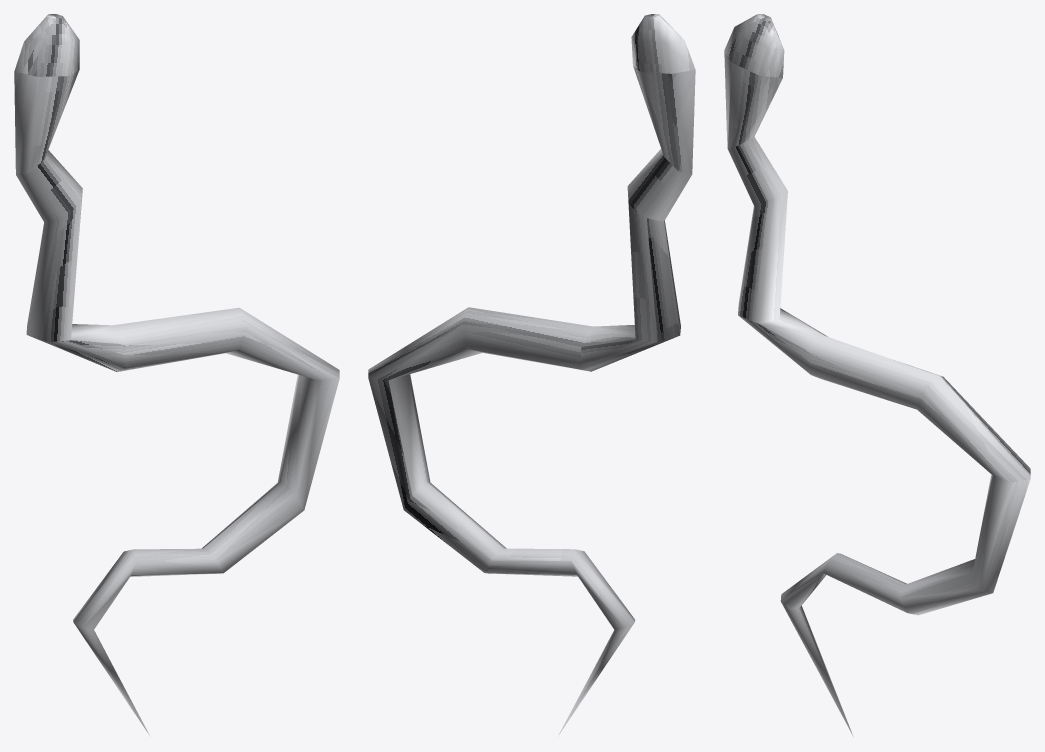
Rendered from snake_000002.obj.
The picture shows the model from 3 angles, left to right: view 1: azimuth 30°, elevation 25°; view 2: azimuth 150°, elevation 25°; view 3: azimuth 330°, elevation 25°; orthographic projection. The views are drawn at different scales.
Visible parts, largest first — view 1: Cylinder; view 2: Cylinder; view 3: Cylinder.
Part boxes in pixels (x1,y1,x2,y2): Cylinder: [14, 14, 339, 736]; Cylinder: [368, 14, 695, 735]; Cylinder: [724, 14, 1030, 736].
Bounding box in the file's own units: 3.08 × 6.74 × 0.3765.
